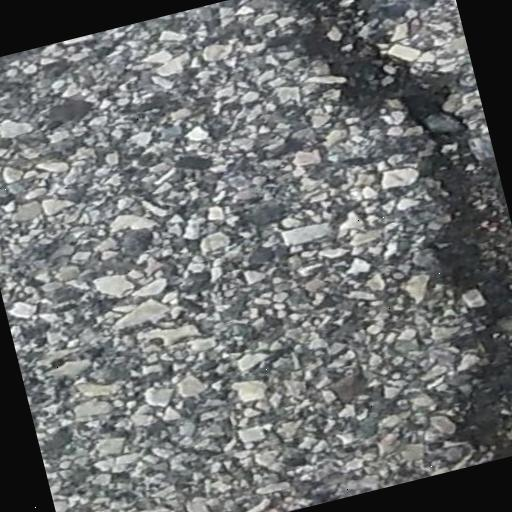spalling: (277, 0, 512, 465)
